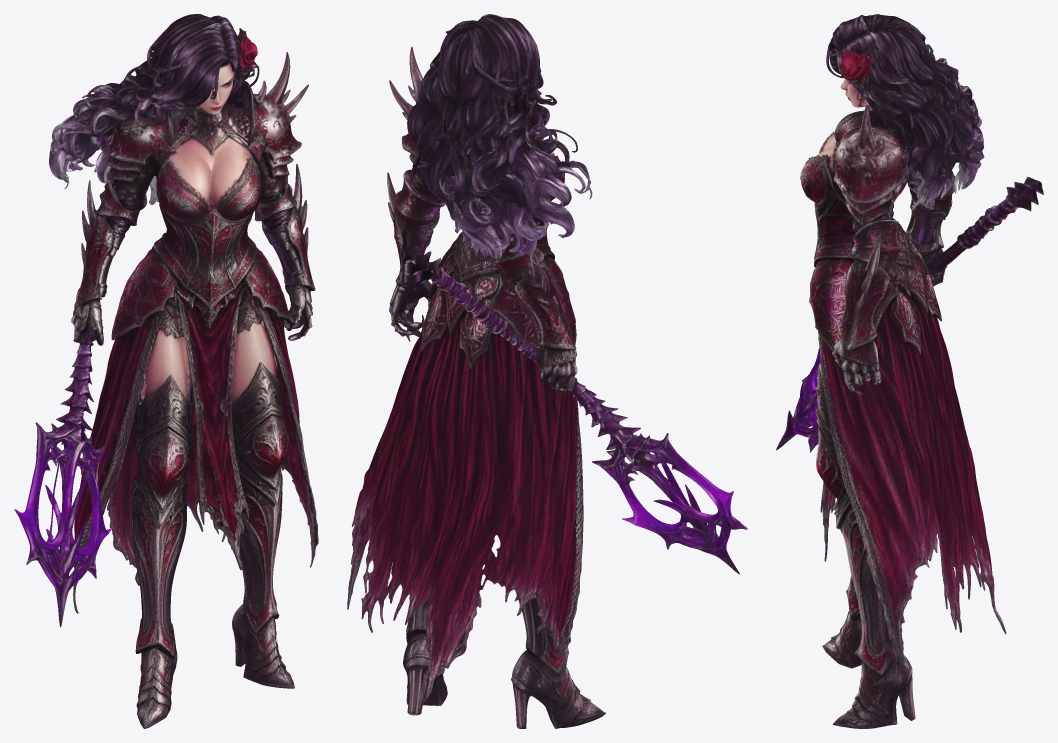
Rendered from karynamodel.glb.
The picture shows the model from 3 angles, left to right: view 1: azimuth 30°, elevation 25°; view 2: azimuth 150°, elevation 25°; view 3: azimuth 270°, elevation 25°; orthographic projection. The views are drawn at different scales.
Parts seen in each view (by area): view 1: mesh_node; view 2: mesh_node; view 3: mesh_node.
Part boxes in pixels (left/top/right/bottom): mesh_node: left=14, top=14, right=318, bottom=728; mesh_node: left=347, top=14, right=747, bottom=728; mesh_node: left=776, top=14, right=1043, bottom=728.
Size of the model in its own units: 0.997 by 1.9 by 0.6847.
Materials: 1 (1 with a texture image).
